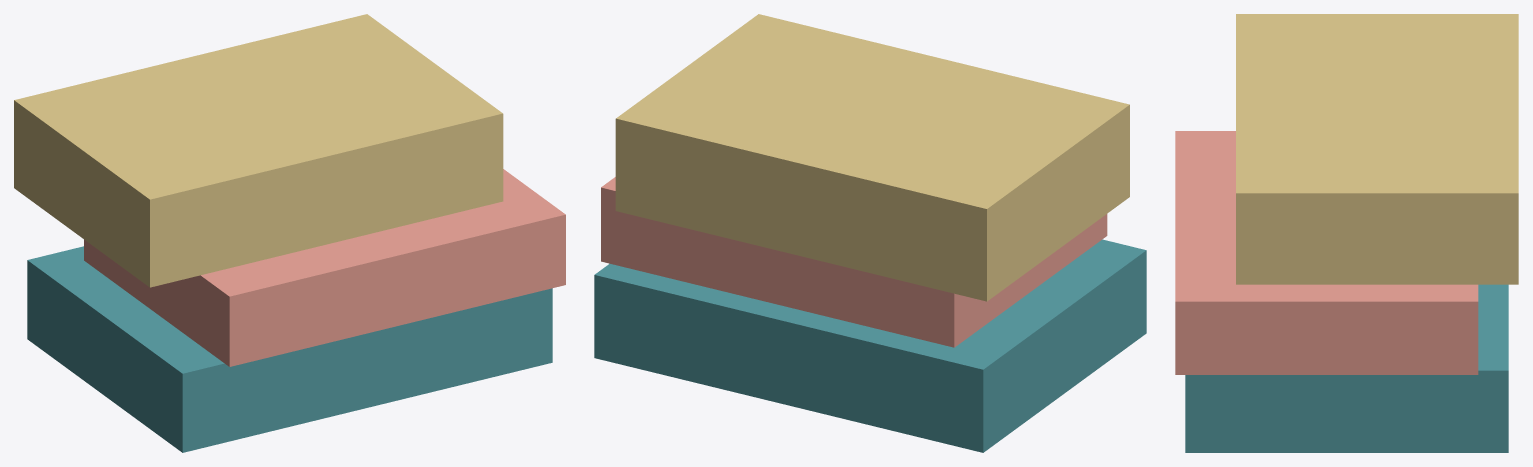
File: bb_set_bookstack.fbx
3 renders of one model, left to right at view 1: azimuth 30°, elevation 25°; view 2: azimuth 150°, elevation 25°; view 3: azimuth 270°, elevation 25°, orthographic. The views are drawn at different scales.
Visible parts, largest first — view 1: bb_set_bookstack; view 2: bb_set_bookstack; view 3: bb_set_bookstack.
Part boxes in pixels (<box>): bb_set_bookstack: <box>14,14,565,452</box>; bb_set_bookstack: <box>594,14,1146,452</box>; bb_set_bookstack: <box>1175,14,1518,452</box>.
Bounding box in the file's own units: 0.23 × 0.135 × 0.17.
